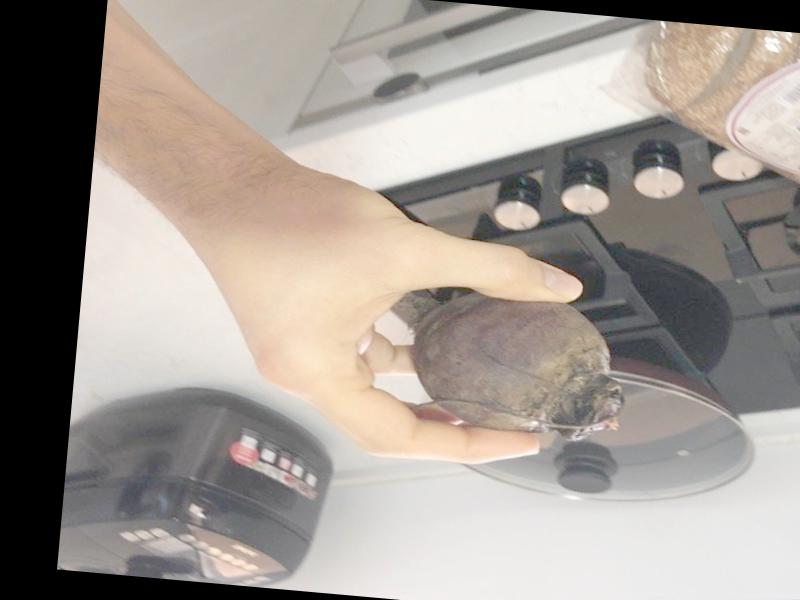Beet: (393, 287, 632, 442)
